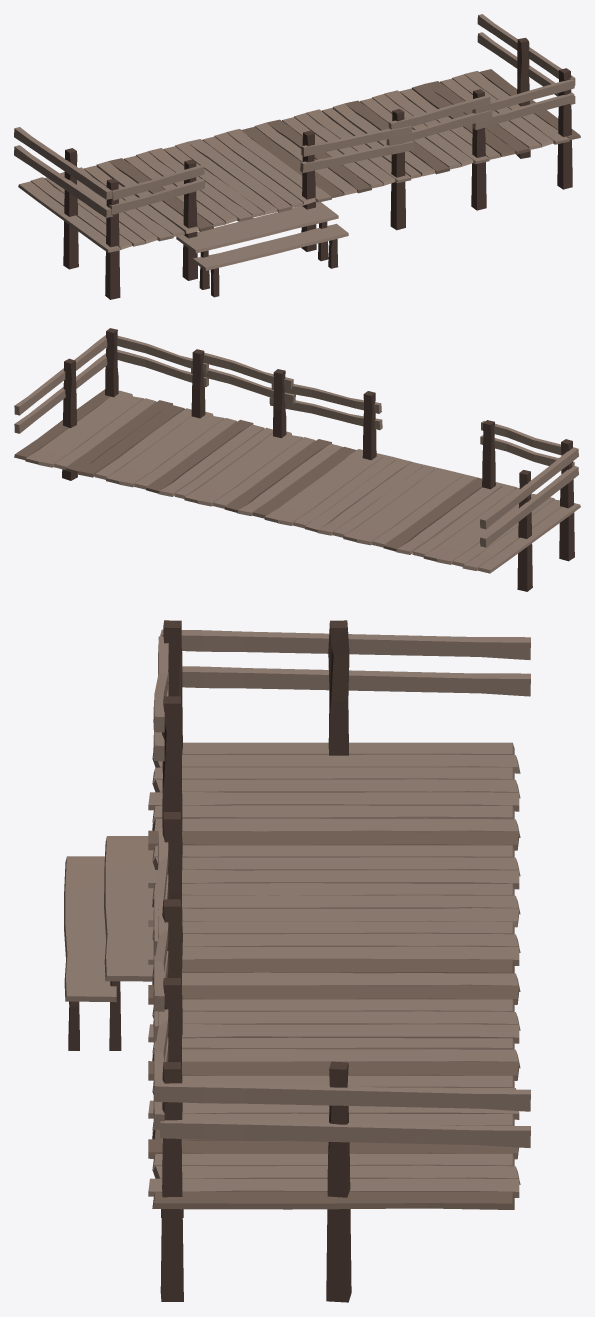
The model's file is porch_house_swedish.fbx.
3 views of the same model, one above another, from view 1: azimuth 30°, elevation 25°; view 2: azimuth 150°, elevation 25°; view 3: azimuth 270°, elevation 25° (orthographic). The views are drawn at different scales.
Visible parts, largest first — view 1: Cube.059; view 2: Cube.059; view 3: Cube.059.
Boxes of the visible parts, box(x1,y1,x2,y2) form: Cube.059: box(14, 14, 580, 299); Cube.059: box(14, 328, 580, 591); Cube.059: box(64, 620, 530, 1302).
Bounding box in the file's own units: 5.86 × 2.5 × 1.37.
